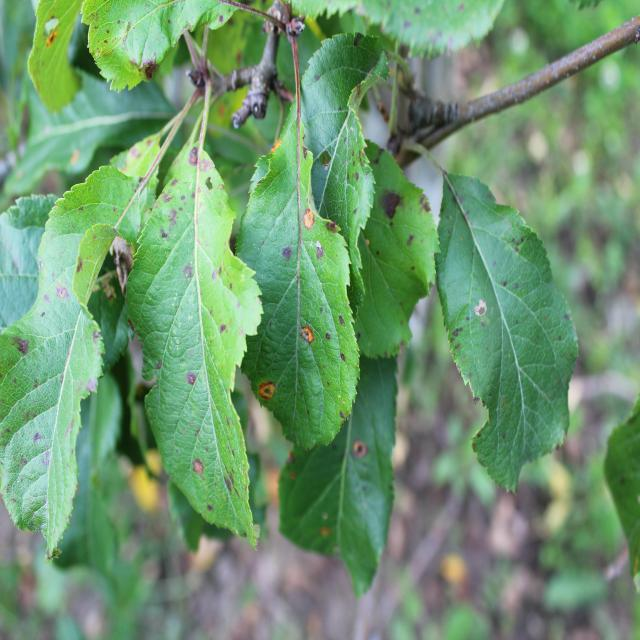rust: (122, 144, 263, 552), (434, 168, 578, 496), (232, 138, 360, 453), (278, 355, 398, 598)
